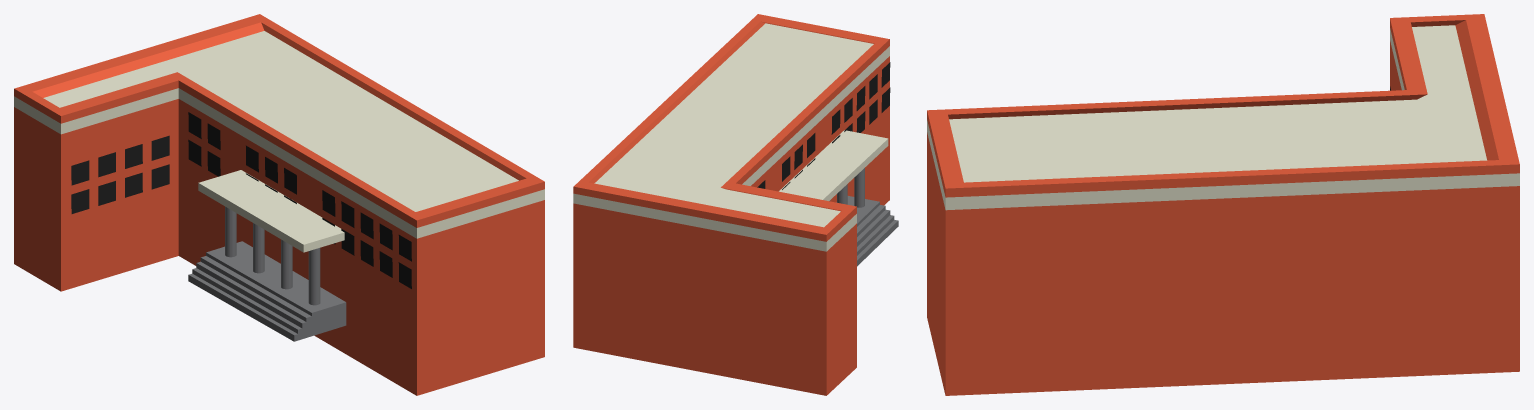
The model's file is Susan Hall.fbx.
3 renders of one model, left to right at view 1: azimuth 30°, elevation 25°; view 2: azimuth 150°, elevation 25°; view 3: azimuth 270°, elevation 25°, orthographic. The views are drawn at different scales.
Parts seen in each view (by area): view 1: Susan Hall; view 2: Susan Hall; view 3: Susan Hall.
Boxes of the visible parts, box(x1,y1,x2,y2) form: Susan Hall: box(14, 14, 544, 395); Susan Hall: box(573, 14, 898, 395); Susan Hall: box(927, 14, 1519, 395).
Bounding box in the file's own units: 323 × 179 × 463.
